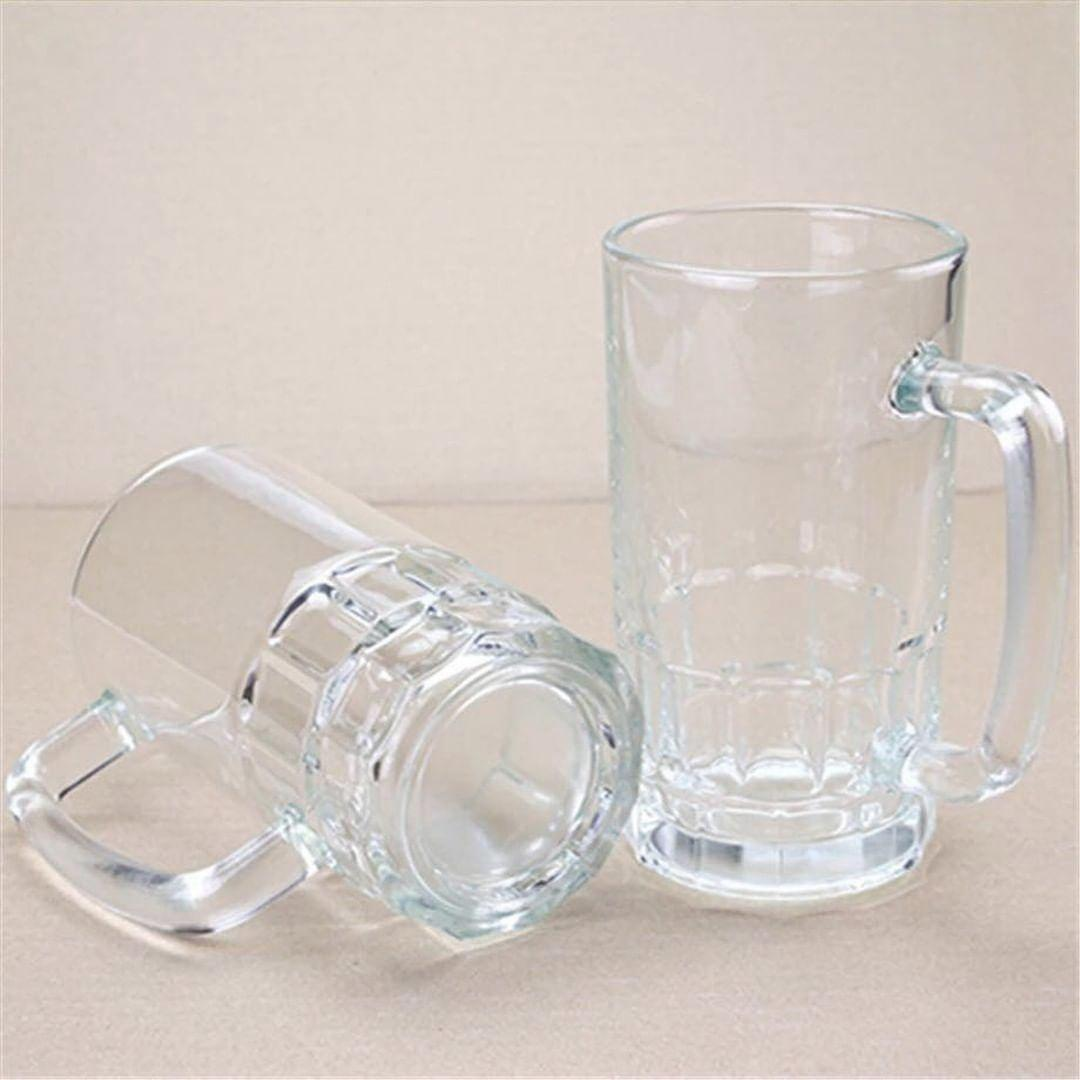glass-mug: (581, 187, 1078, 920), (0, 437, 634, 969)
